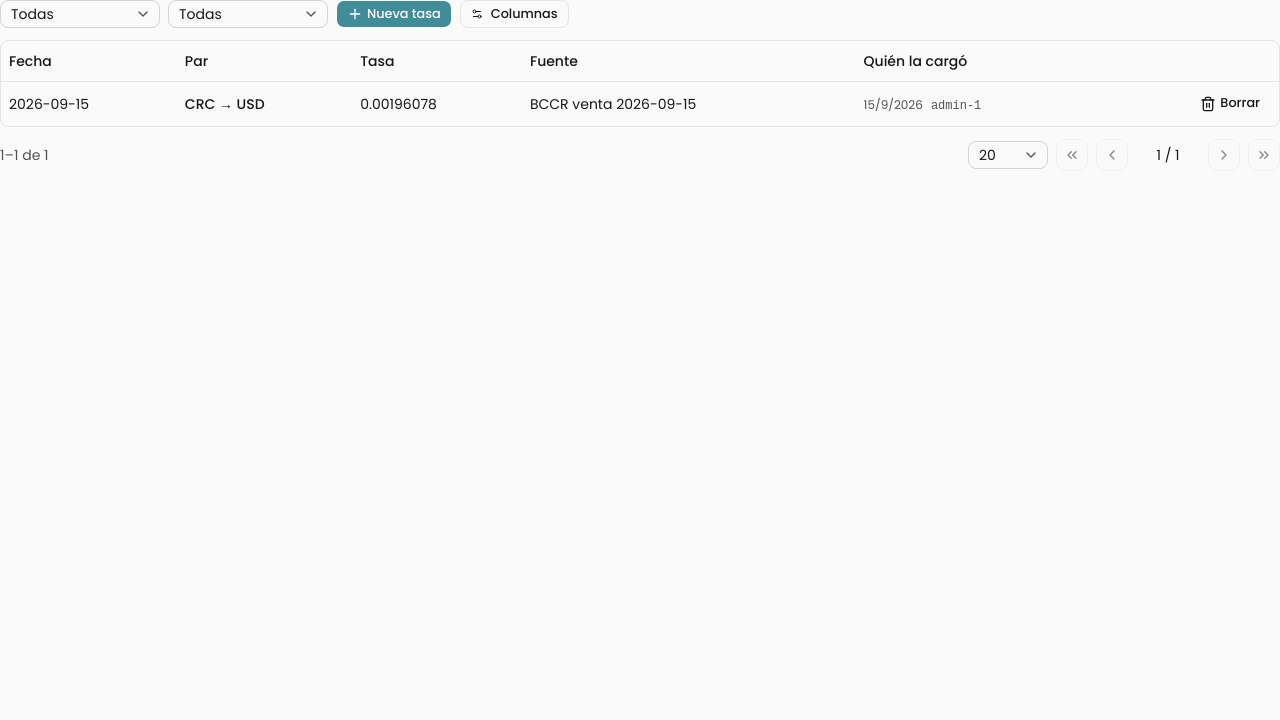
Test: FinanceExchangeRates — el alta valida antes de viajar › la etiqueta dice el enunciado con las monedas elegidas
Click the button "Nueva tasa".
click(394, 14)  # box [336,0,452,28]
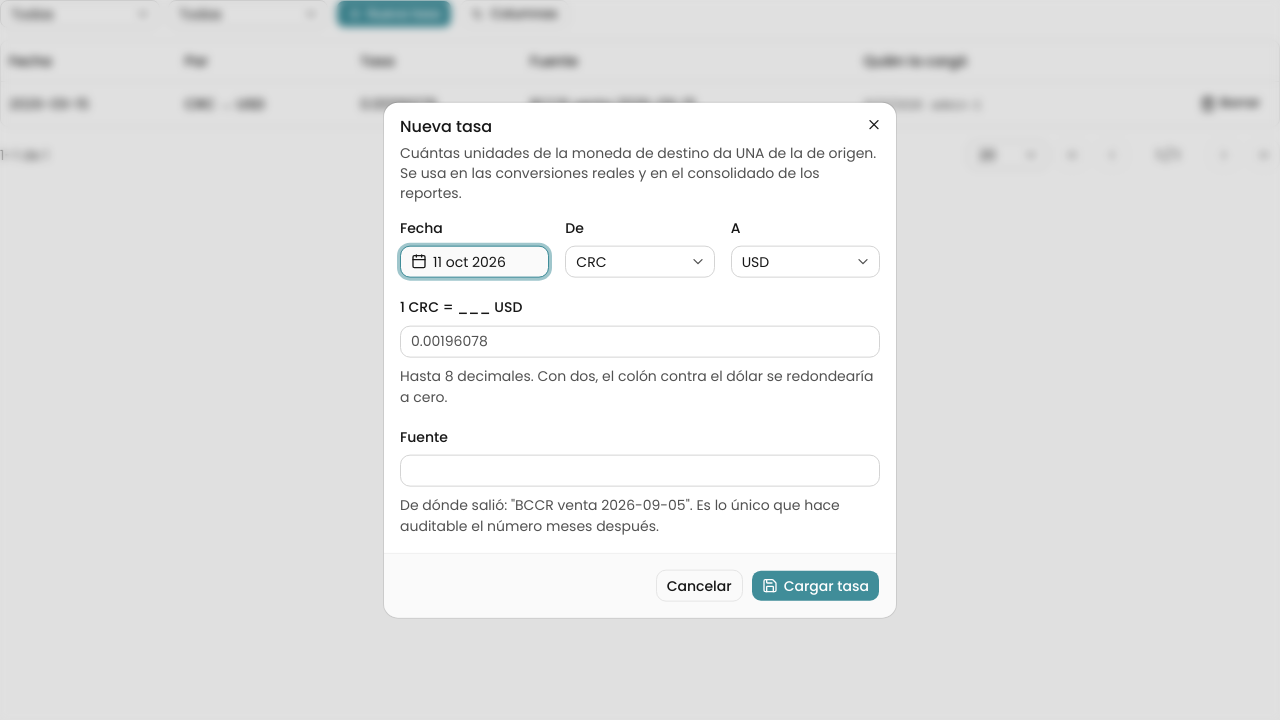
Now the text "1 CRC = ___ USD" is shown, box [400,297,522,317]
Click the dropdown named "De".
click(640, 262)  # box [565,246,715,278]
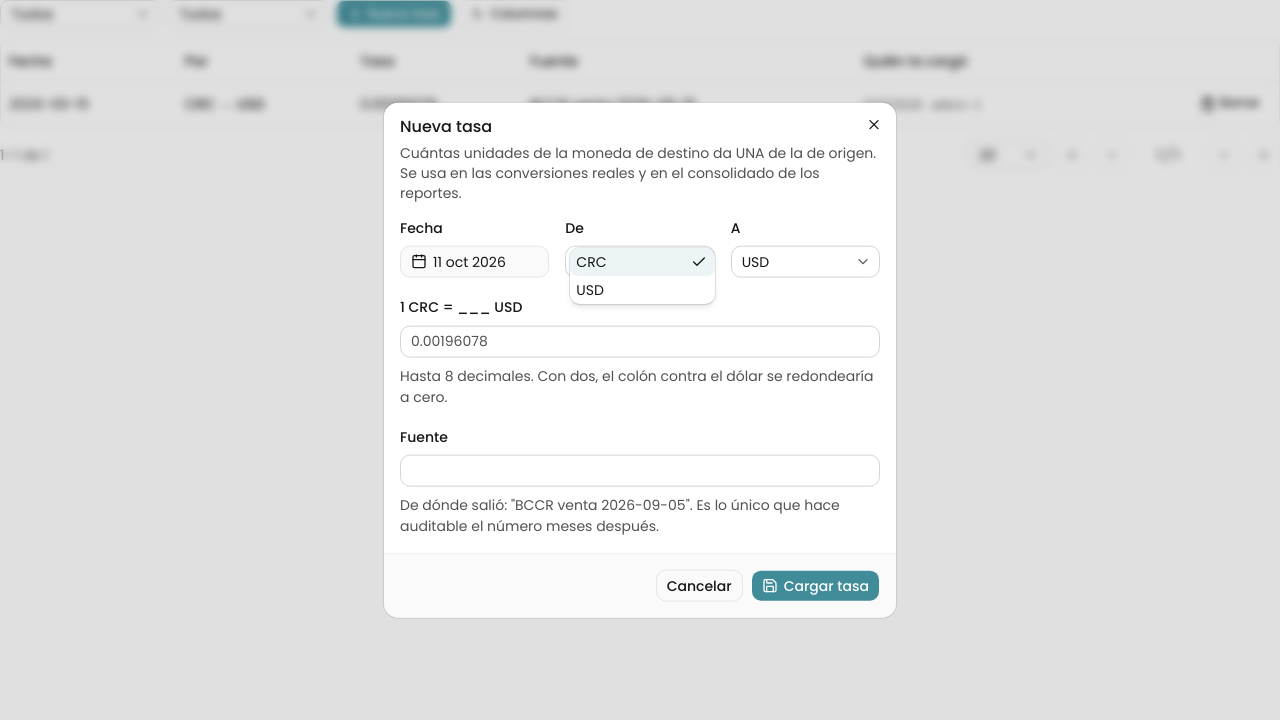
Click the option "USD".
click(590, 290)  # box [576,280,604,300]
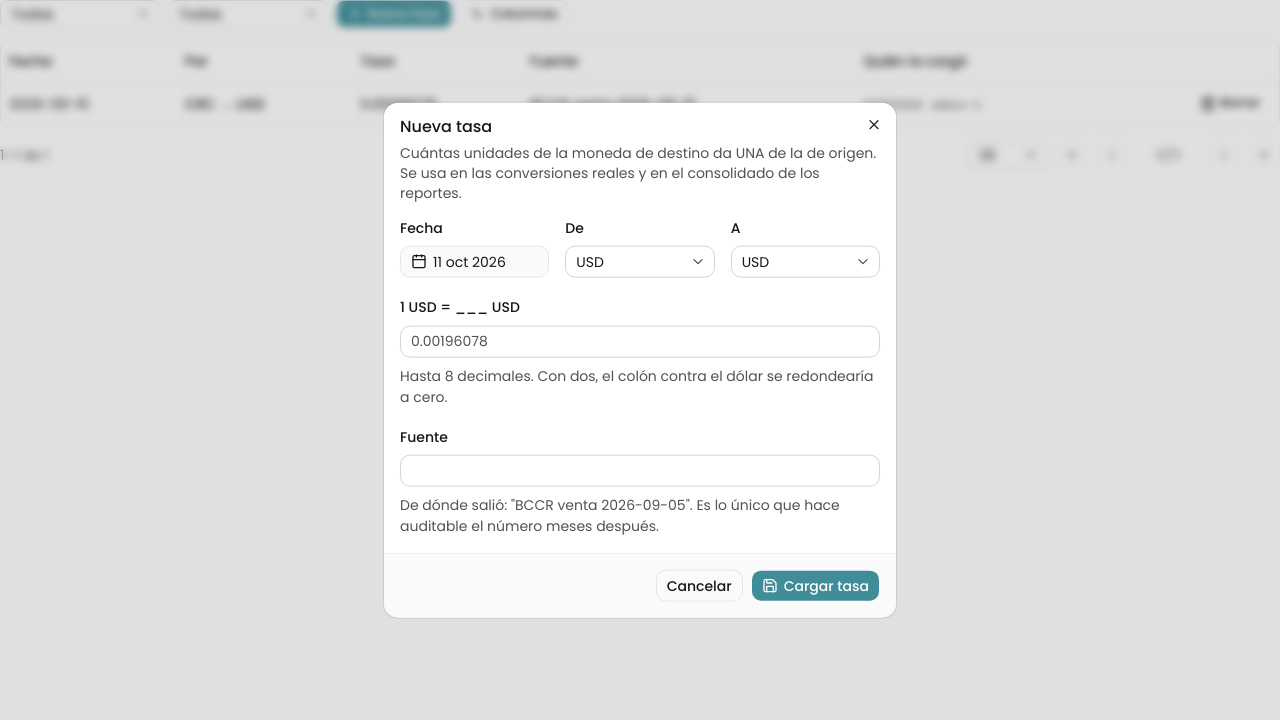
Click the dropdown named "A".
click(805, 262)  # box [731,246,880,278]
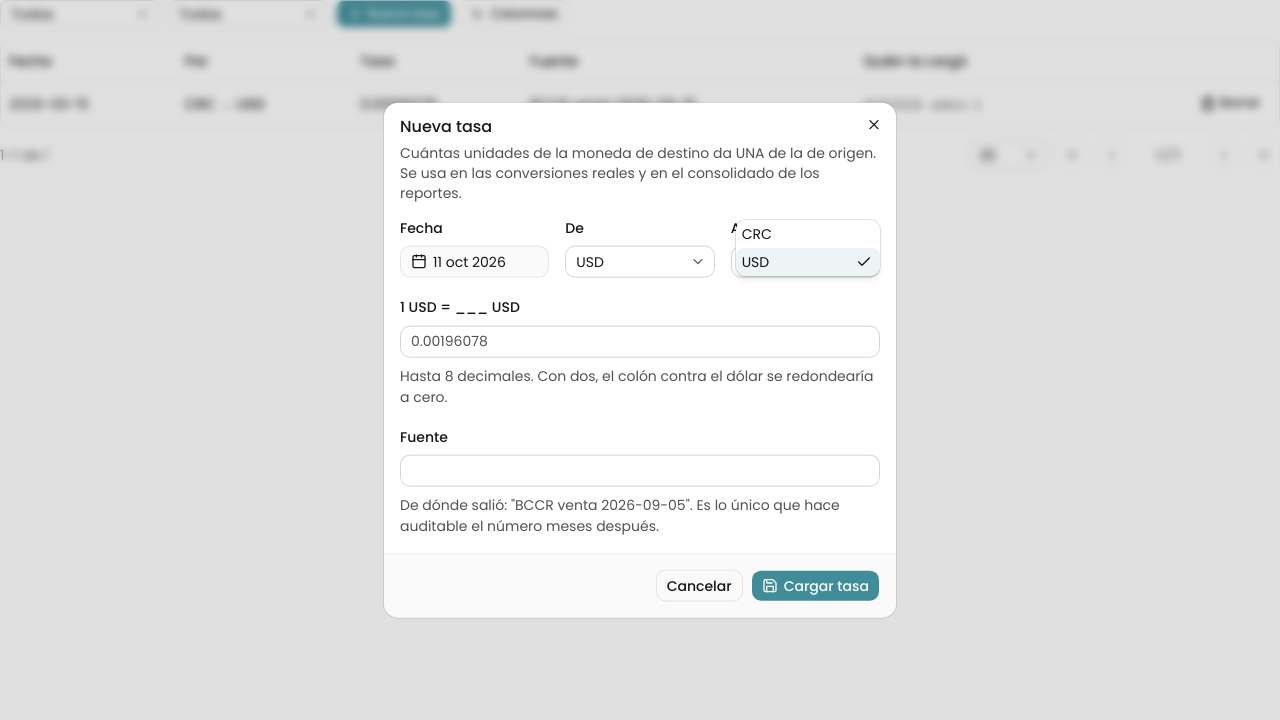
Click the option "CRC".
click(757, 234)  # box [742,224,772,244]
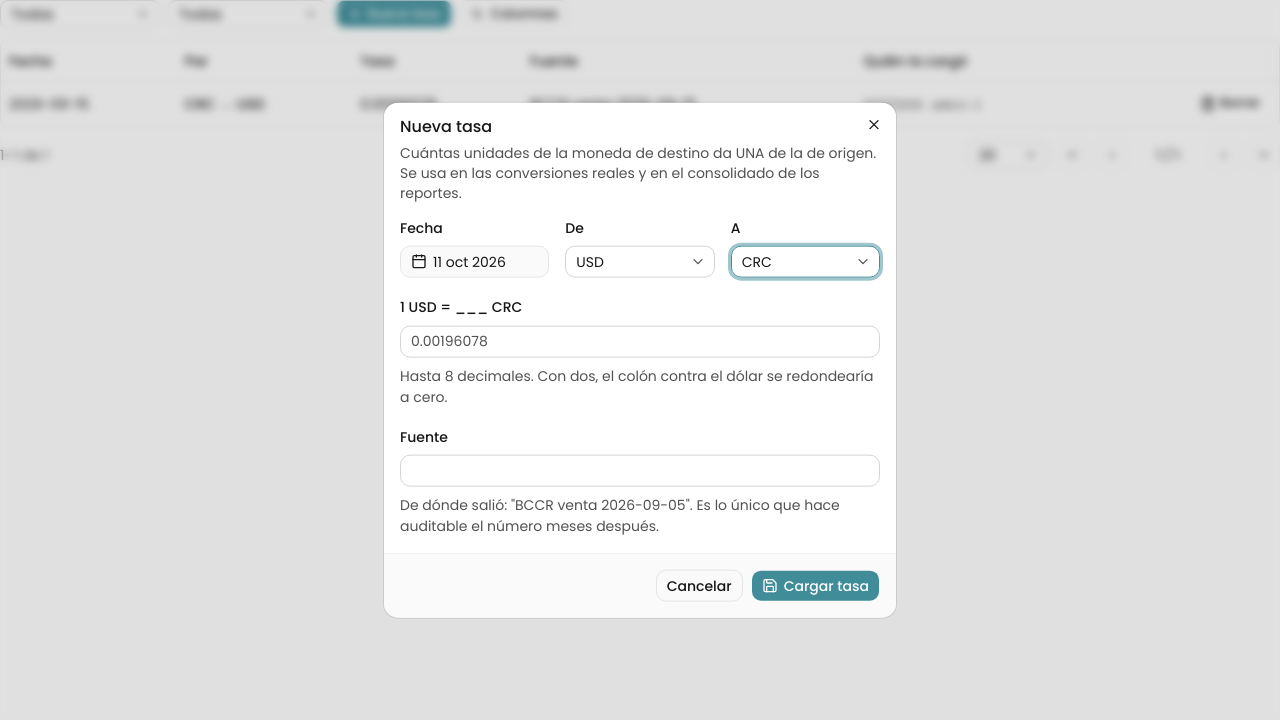
Now the text "1 USD = ___ CRC" is shown, box [400,297,522,317]
